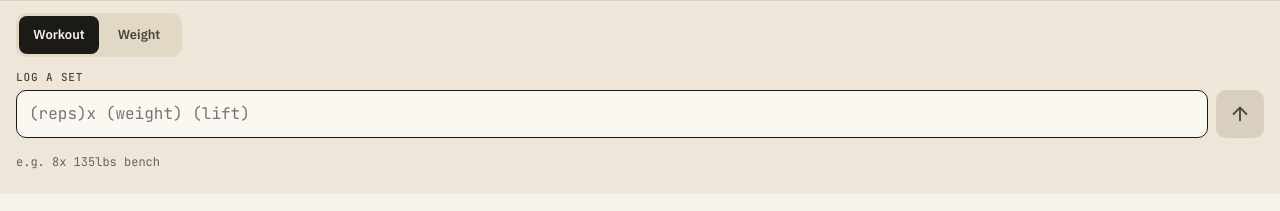
Test: Composer › Weight mode has its own label and placeholder
Click the radio button labelled "Weight": [139, 35] box [99,16,179,54]
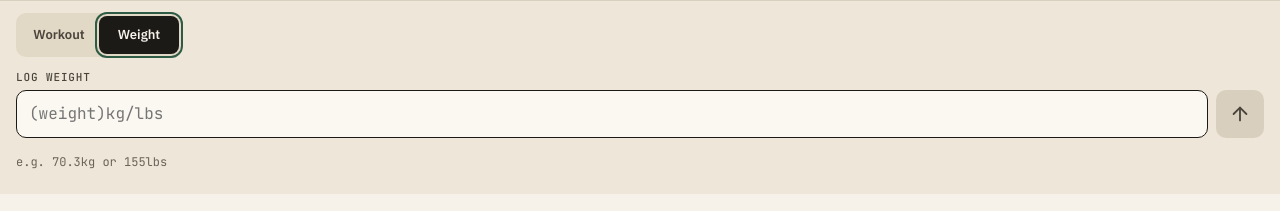
Now the text "e.g. 70.3kg or 155lbs" is shown, box [16,154,167,170]
